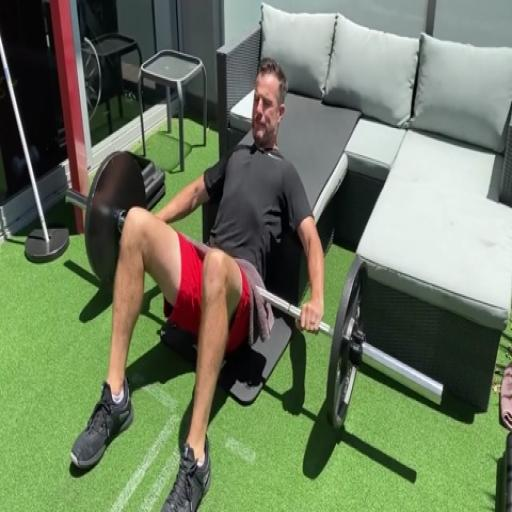exercise: (68, 56, 328, 510)
